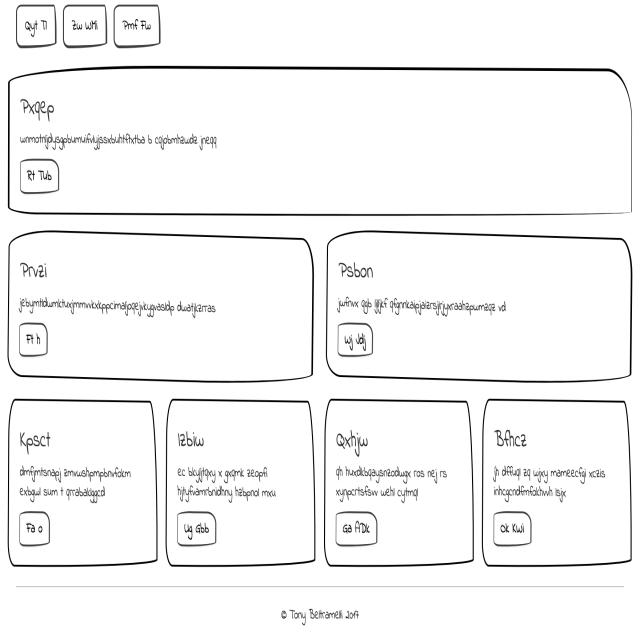Button: (15, 158, 69, 198), (329, 511, 387, 546), (17, 512, 57, 549), (484, 517, 536, 545), (174, 514, 222, 542), (338, 326, 382, 355), (16, 328, 55, 354)
Card: (10, 75, 630, 219), (5, 229, 314, 383), (329, 240, 631, 380), (166, 398, 315, 568), (478, 403, 630, 562), (325, 404, 472, 565), (11, 404, 158, 564)
Footer: (5, 580, 640, 640)
Heading 6: (17, 93, 83, 129), (336, 252, 387, 284), (489, 421, 532, 455), (16, 424, 60, 456), (10, 254, 59, 282), (330, 427, 374, 455), (174, 424, 210, 454)
Navigation Bar: (0, 6, 163, 46)
Paragraph: (13, 285, 227, 319), (12, 130, 240, 152), (331, 464, 463, 501), (168, 464, 286, 503), (15, 468, 136, 506), (486, 467, 611, 500), (334, 294, 522, 315)
